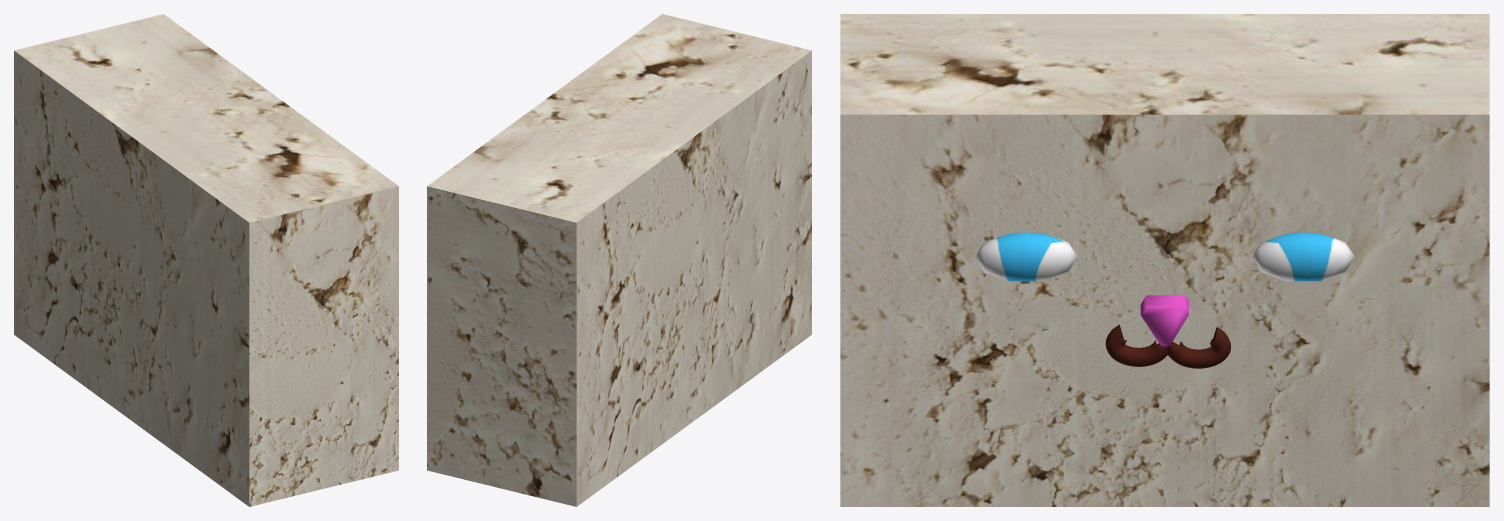
File: tofu.glb
3 views of the same model, side by side, from view 1: azimuth 30°, elevation 25°; view 2: azimuth 150°, elevation 25°; view 3: azimuth 270°, elevation 25° (orthographic). The views are drawn at different scales.
Parts seen in each view (by area): view 1: tofu; view 2: tofu; view 3: tofu, Icosphere, Cylinder.001, NurbsCurve.001, NurbsCurve.
Part boxes in pixels (x1=…): tofu: x1=14, y1=14, x2=398, y2=506; tofu: x1=427, y1=14, x2=811, y2=506; tofu: x1=840, y1=14, x2=1489, y2=506; Icosphere: x1=975, y1=232, x2=1354, y2=281; Cylinder.001: x1=1140, y1=295, x2=1188, y2=347; NurbsCurve.001: x1=1167, y1=327, x2=1230, y2=368; NurbsCurve: x1=1105, y1=324, x2=1172, y2=366.
Bounding box in the file's own units: 2.39 × 3.93 × 5.9.
5 materials, 2 textured.
